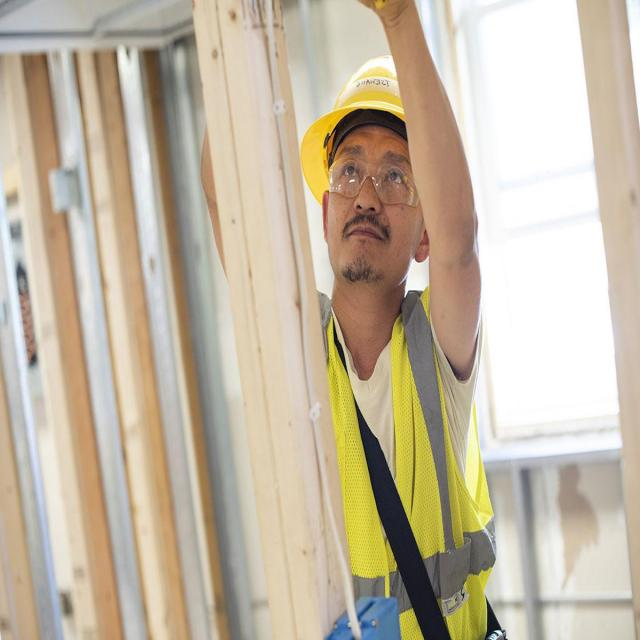Reflective-Jacket: (319, 285, 497, 638)
Safety-Helmet: (298, 49, 415, 207)
